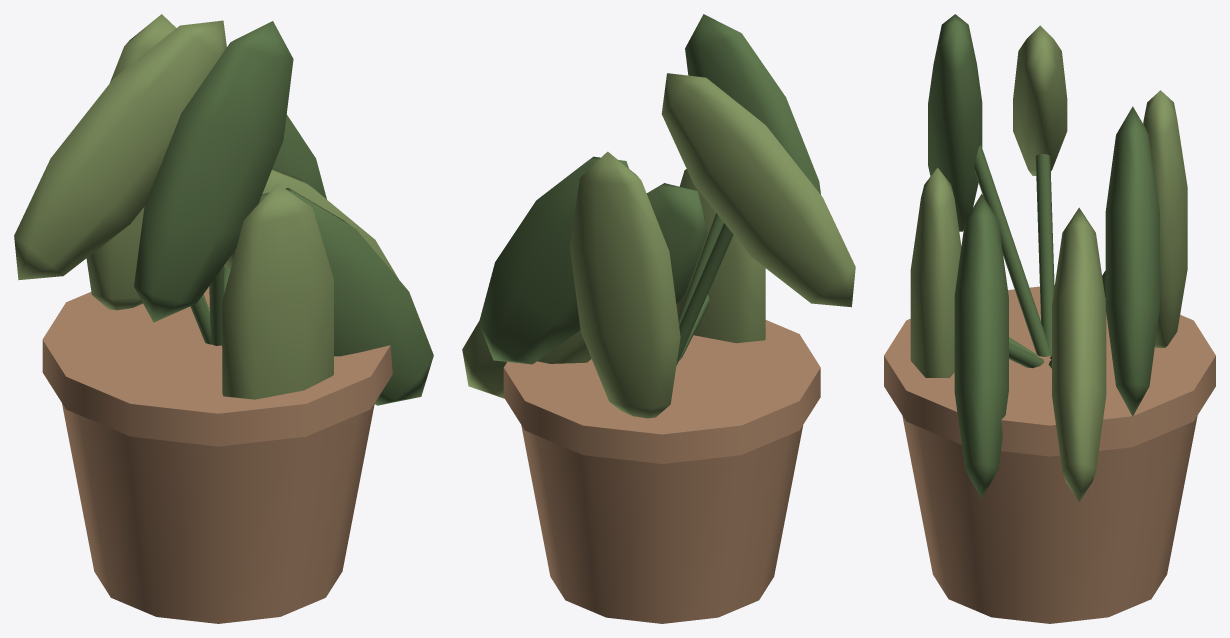
The model's file is planter.glb.
3 renders of one model, left to right at view 1: azimuth 30°, elevation 25°; view 2: azimuth 150°, elevation 25°; view 3: azimuth 270°, elevation 25°, orthographic. The views are drawn at different scales.
Parts seen in each view (by area): view 1: planter; view 2: planter; view 3: planter.
Part boxes in pixels (left/top/right/bottom): planter: left=14, top=14, right=433, bottom=623; planter: left=462, top=14, right=855, bottom=623; planter: left=884, top=14, right=1215, bottom=623.
Size of the model in its own units: 0.9198 by 1.25 by 0.68.
